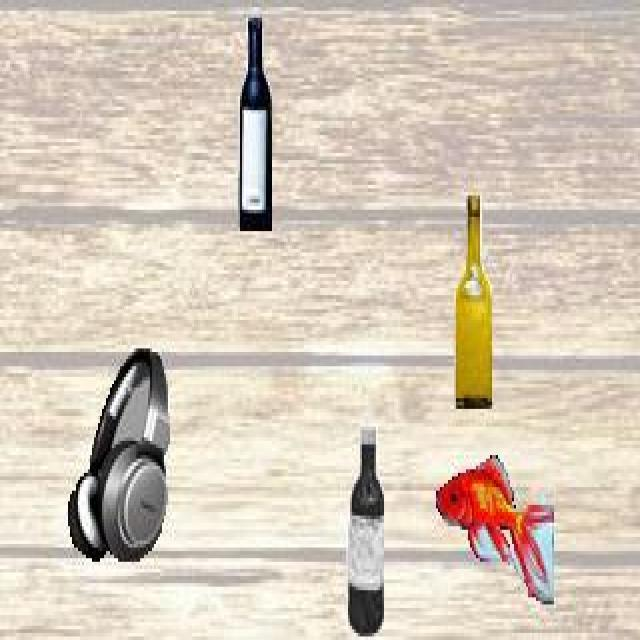Other Objects: (67, 346, 171, 562), (453, 192, 493, 411), (346, 428, 386, 634), (238, 16, 274, 230)
